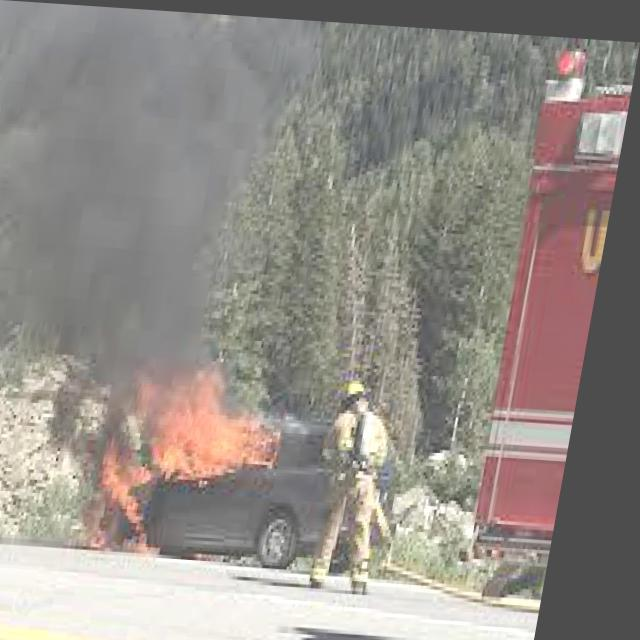Fire: (78, 358, 314, 556)
